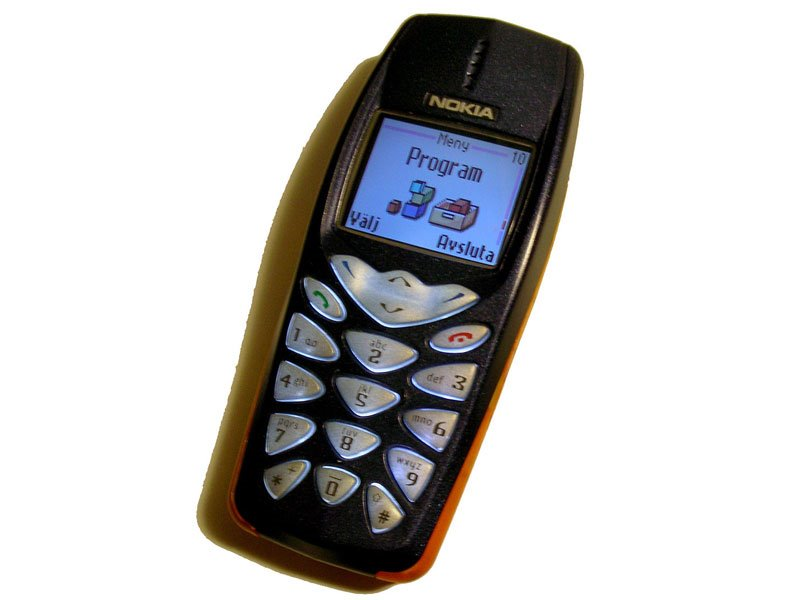Phone: (223, 12, 588, 583)
